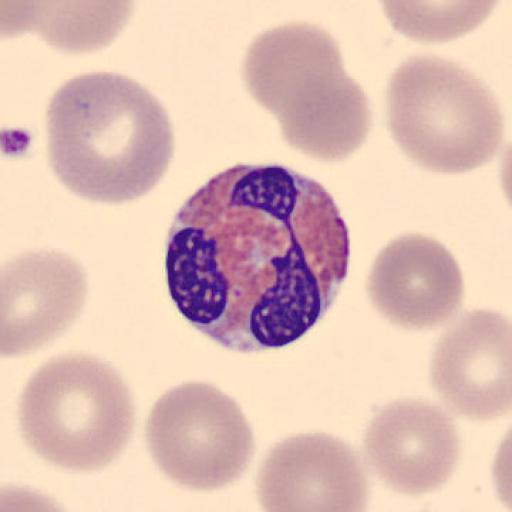RBC: (241, 18, 373, 162), (43, 68, 176, 206), (384, 49, 505, 178), (16, 348, 138, 474), (142, 378, 258, 494), (239, 18, 350, 123), (269, 62, 374, 165), (360, 395, 464, 498), (363, 229, 465, 332), (1, 246, 91, 360), (426, 304, 512, 421), (253, 430, 370, 512), (20, 0, 140, 56), (375, 0, 503, 44), (1, 476, 89, 512), (489, 423, 512, 512), (0, 0, 39, 42), (496, 116, 512, 216)
WBC: (164, 159, 352, 354)
